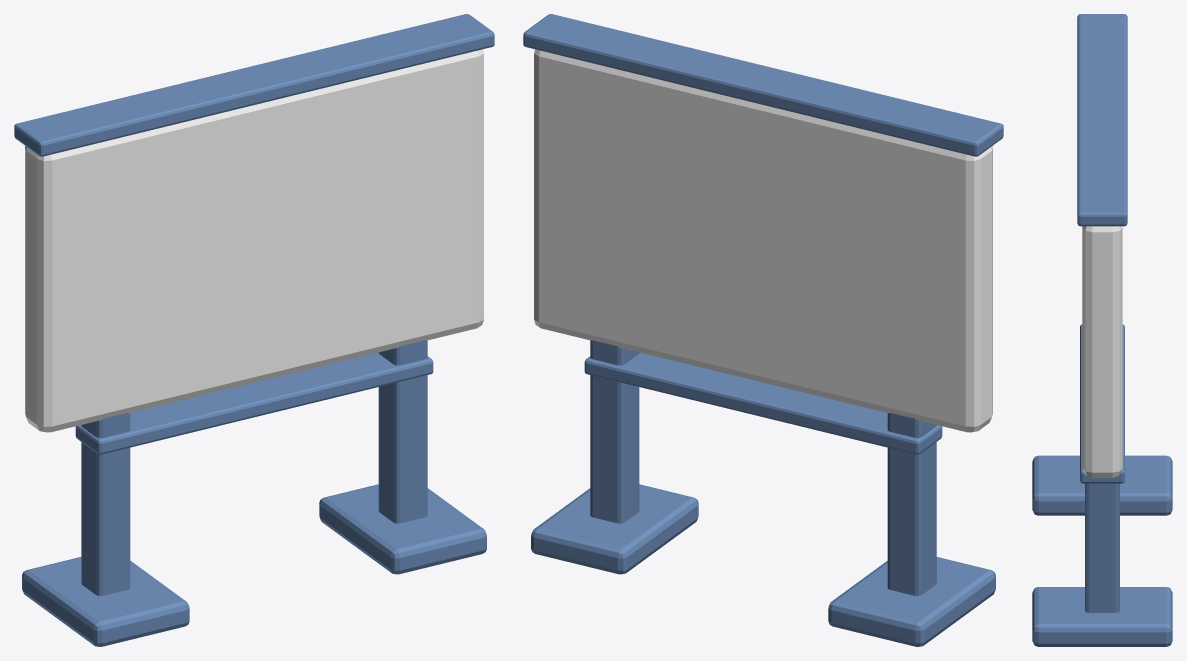
Rendered from billboard.glb.
3 renders of one model, left to right at view 1: azimuth 30°, elevation 25°; view 2: azimuth 150°, elevation 25°; view 3: azimuth 270°, elevation 25°, orthographic. The views are drawn at different scales.
Parts seen in each view (by area): view 1: sign, trim, brace, foot.1, foot.-1, post.-1, post.1; view 2: sign, trim, brace, foot.1, foot.-1, post.-1, post.1; view 3: trim, sign, foot.1, foot.-1, post.1, brace.
Boxes of the visible parts, x1,y1,x2,y2 form: sign: (25, 49, 483, 432); trim: (14, 14, 494, 156); brace: (75, 352, 433, 454); foot.1: (319, 484, 486, 574); foot.-1: (22, 557, 189, 646); post.-1: (81, 413, 130, 595); post.1: (378, 340, 427, 523); sign: (534, 49, 992, 432); trim: (523, 14, 1003, 156); brace: (584, 352, 942, 454); foot.1: (531, 484, 698, 574); foot.-1: (828, 557, 995, 646); post.-1: (887, 413, 936, 595); post.1: (590, 340, 639, 523); trim: (1077, 14, 1127, 226); sign: (1082, 226, 1122, 477); foot.1: (1032, 587, 1172, 646); foot.-1: (1032, 455, 1172, 515); post.1: (1085, 483, 1119, 612); brace: (1080, 324, 1124, 483).
Size of the model in its own units: 1.9 by 1.98 by 0.56.
